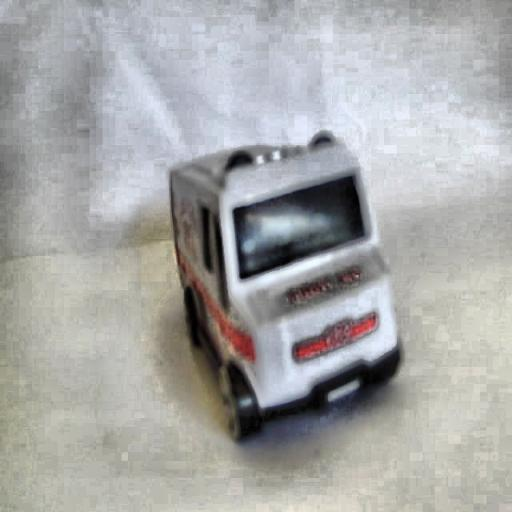ambulance: (168, 131, 401, 442)
